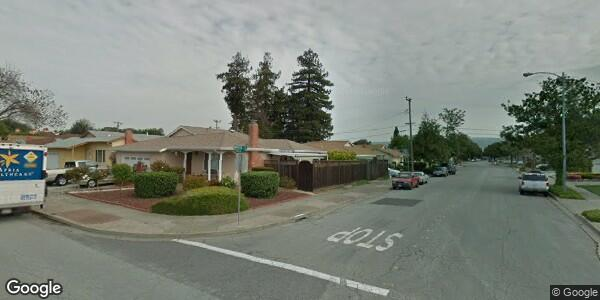Steel_Pole: (519, 69, 569, 185)
Wood_Pole: (400, 94, 418, 171)
